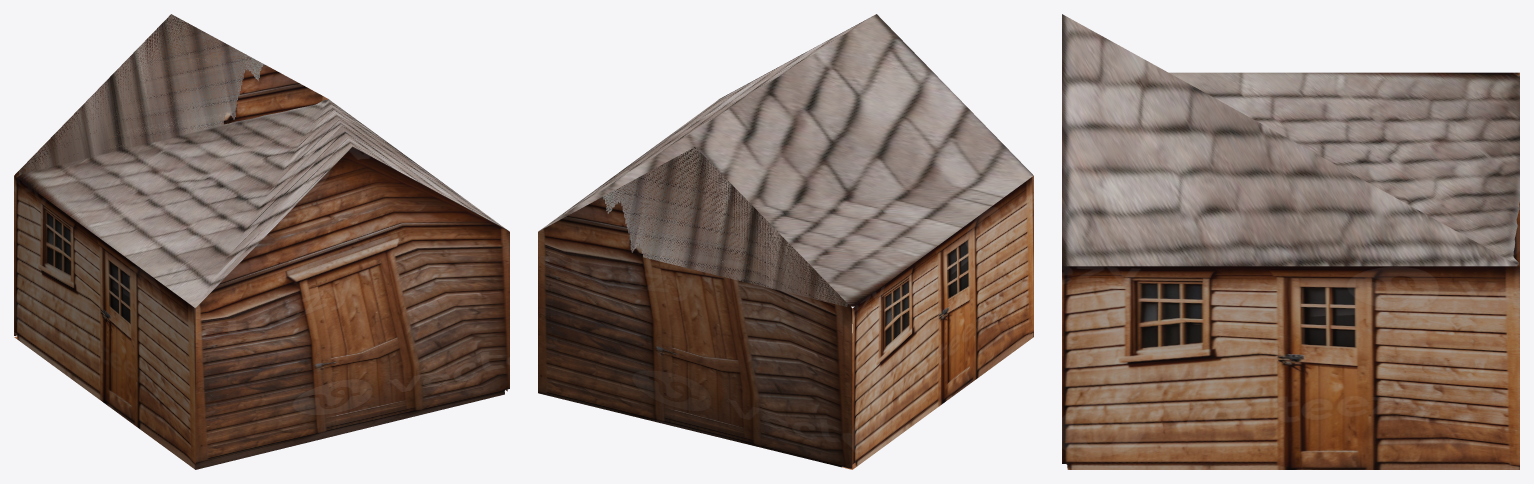
File: shed 5.fbx
3 renders of one model, left to right at view 1: azimuth 30°, elevation 25°; view 2: azimuth 150°, elevation 25°; view 3: azimuth 270°, elevation 25°, orthographic. The views are drawn at different scales.
Parts seen in each view (by area): view 1: Cube; view 2: Cube; view 3: Cube.
Boxes of the visible parts, box(x1,y1,x2,y2) form: Cube: box(14, 14, 509, 469); Cube: box(538, 14, 1033, 469); Cube: box(1062, 14, 1519, 469).
Size of the model in its own units: 200 by 173 by 200.
